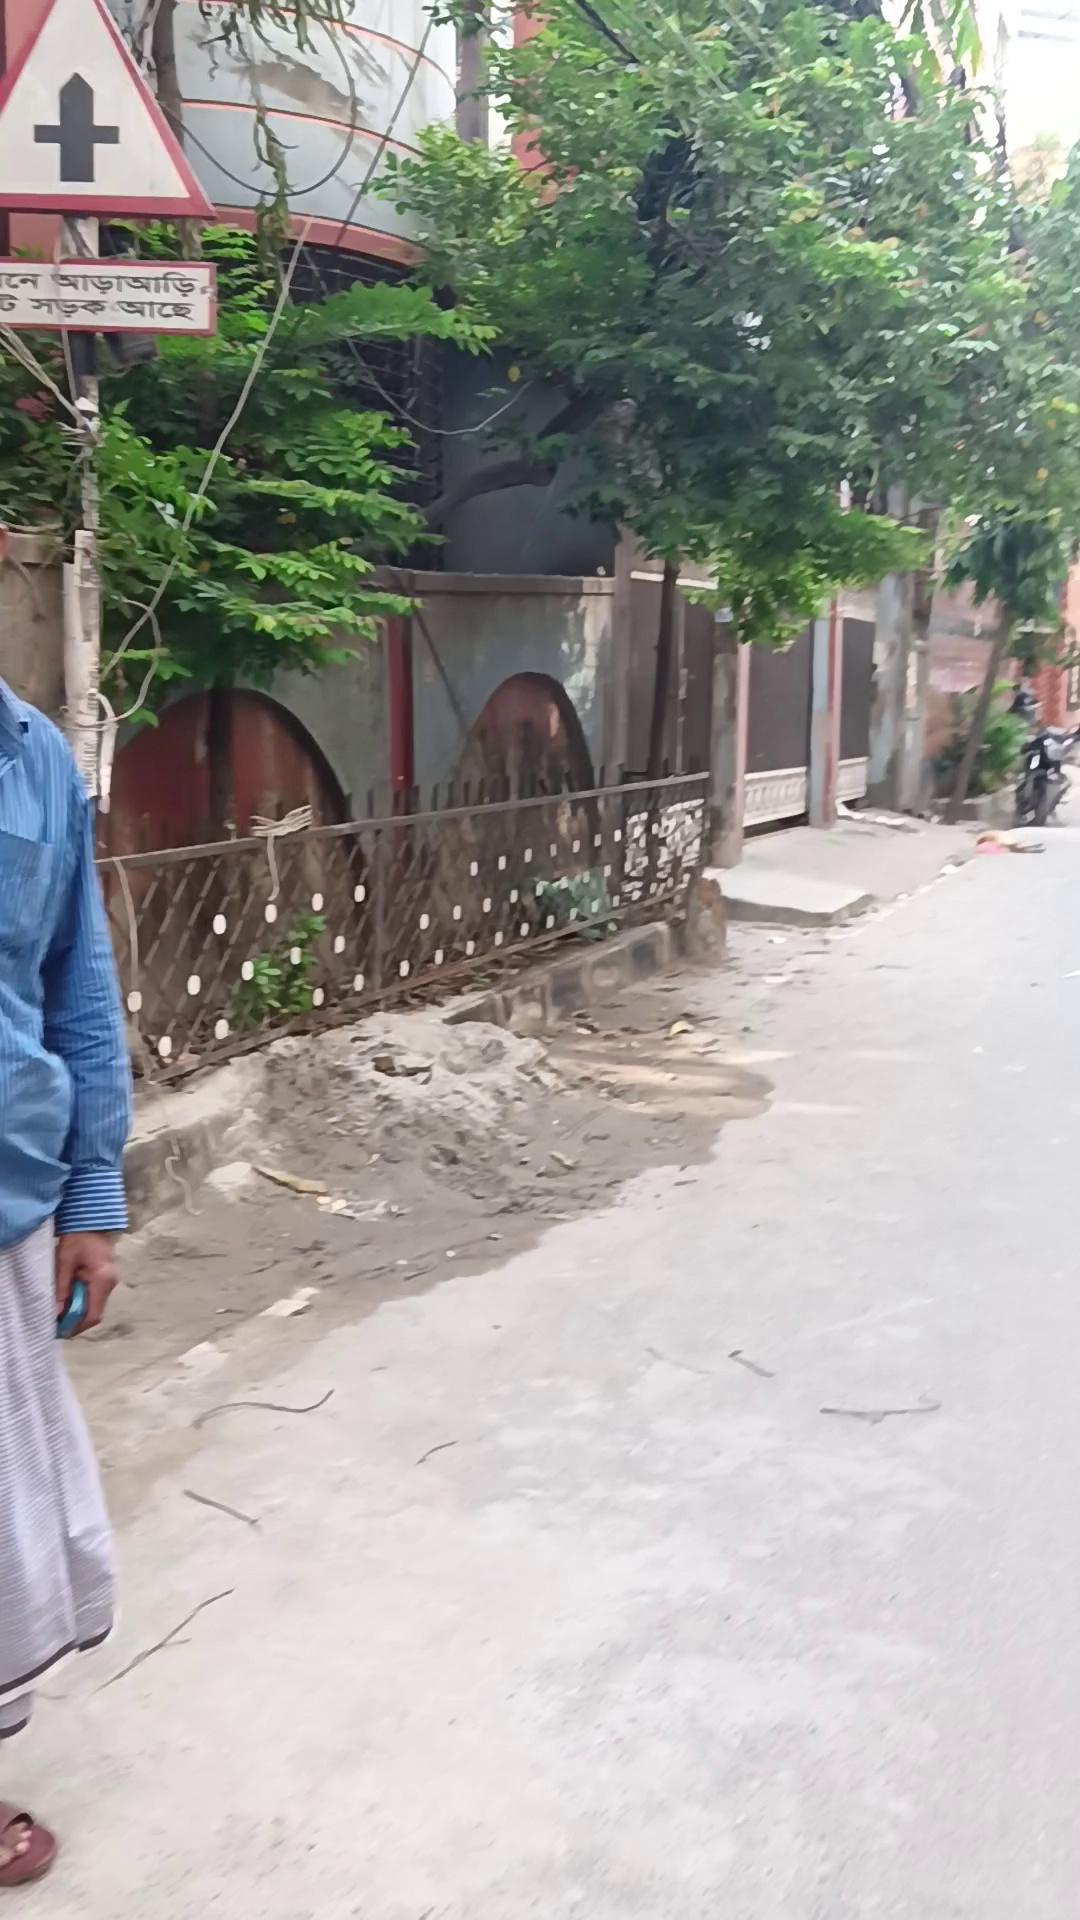Broken-road: (82, 791, 988, 1241), (709, 866, 874, 927)
Car: (88, 760, 717, 1087)
Construction-barrier: (1009, 723, 1077, 827)
Curb: (0, 673, 133, 1884)
Garbage-bin: (0, 1, 222, 814)
Obstacle: (0, 0, 827, 1080)
